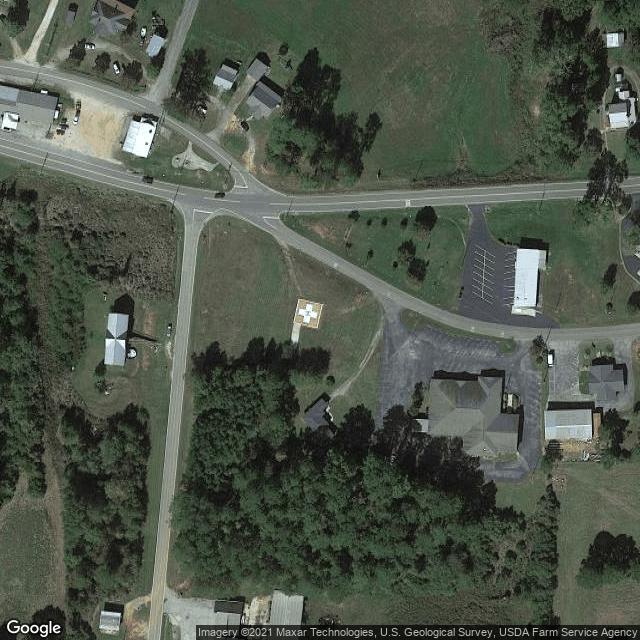Helipad: (292, 296, 324, 330)
